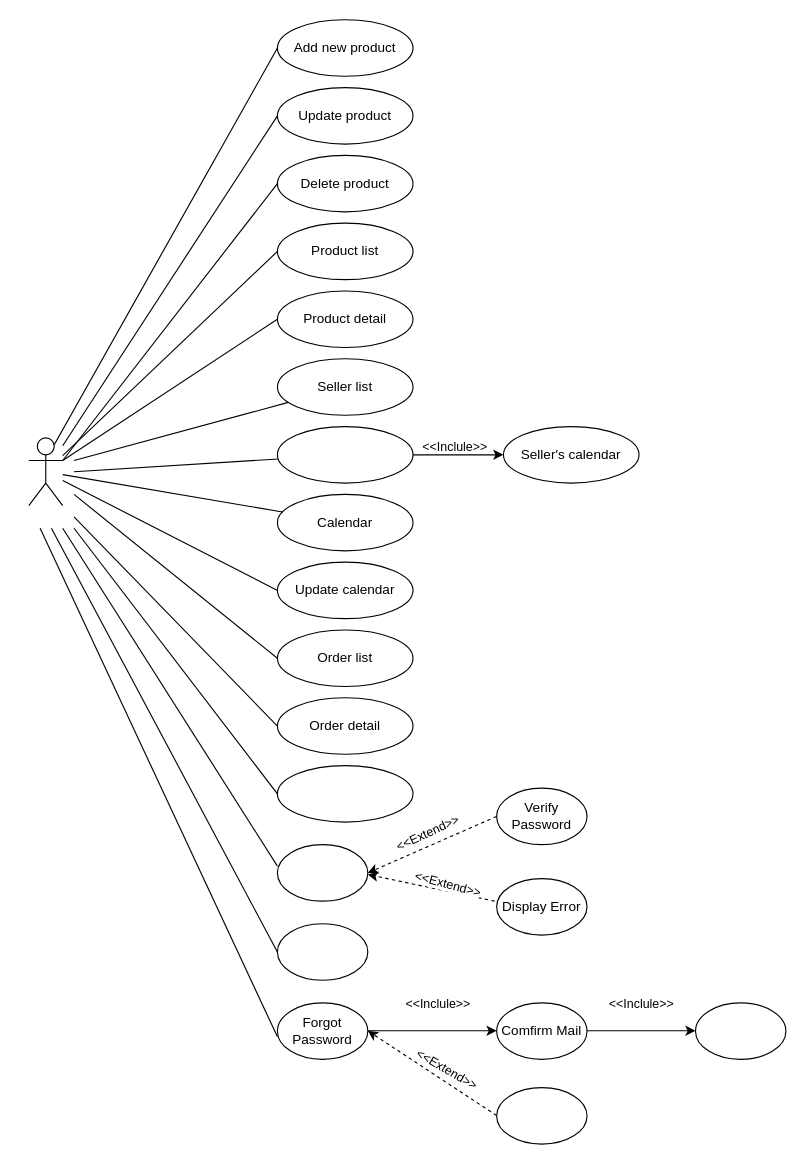
The diagram is 806 pixels wide and 1164 high, and some of its shapes have lost their labels. Here are the shapes that lost their labels. From the top down, the centre of each, then its label:
At [45,471]: "Manager".
At [344,454]: "Seller detail".
At [344,793]: "Update order".
At [322,872]: "Login".
At [322,951]: "Logout".
At [740,1030]: "Comfirm OTP".
At [541,1115]: "Send OTP".
